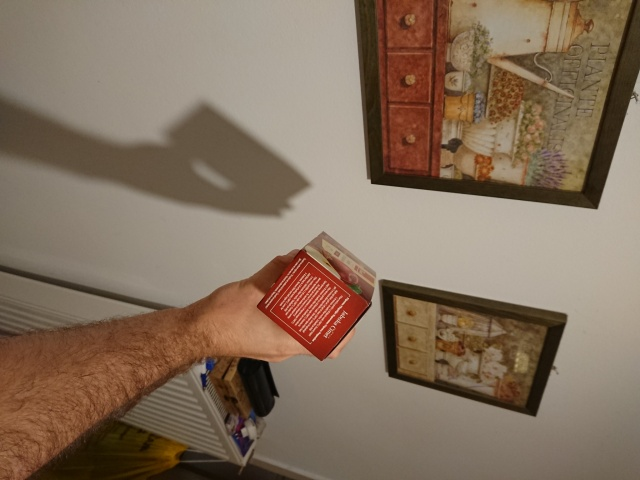Franck Apple Cinnamon Tea 60g: (253, 228, 379, 364)
